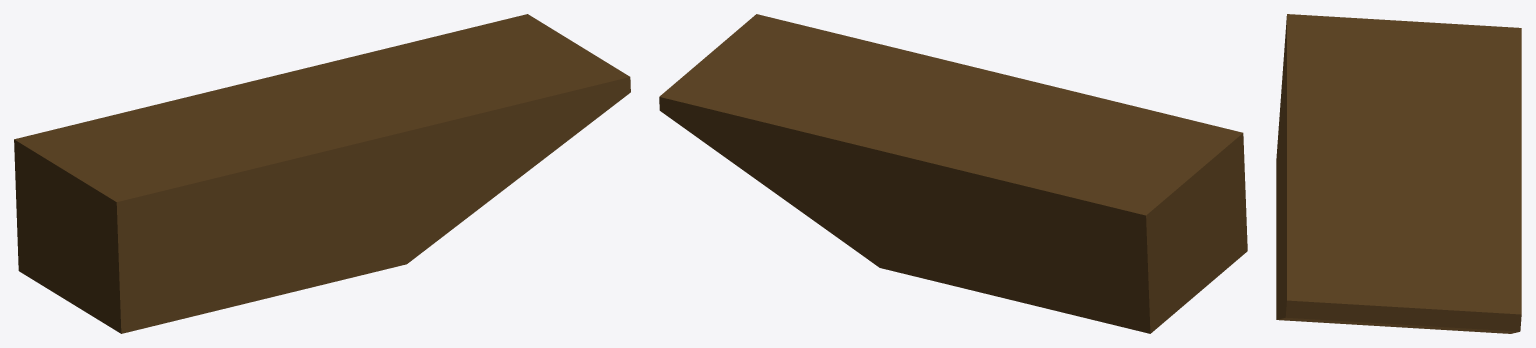
File: left_shoulder_x_link_visual_3.obj
3 views of the same model, side by side, from view 1: azimuth 30°, elevation 25°; view 2: azimuth 150°, elevation 25°; view 3: azimuth 270°, elevation 25° (orthographic). The views are drawn at different scales.
Visible parts, largest first — view 1: i01..leftArm.shoulder.full.004_visual.001; view 2: i01..leftArm.shoulder.full.004_visual.001; view 3: i01..leftArm.shoulder.full.004_visual.001.
Part boxes in pixels (bbox=[...]): i01..leftArm.shoulder.full.004_visual.001: bbox=[14, 14, 630, 333]; i01..leftArm.shoulder.full.004_visual.001: bbox=[659, 14, 1247, 333]; i01..leftArm.shoulder.full.004_visual.001: bbox=[1276, 14, 1521, 333].
Bounding box in the file's own units: 0.0788 × 0.0206 × 0.0285.
